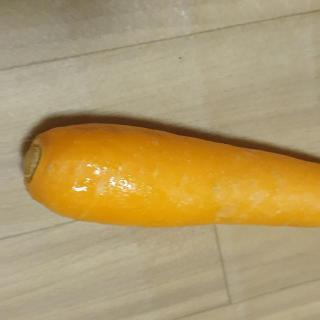carrot: (18, 119, 320, 231)
